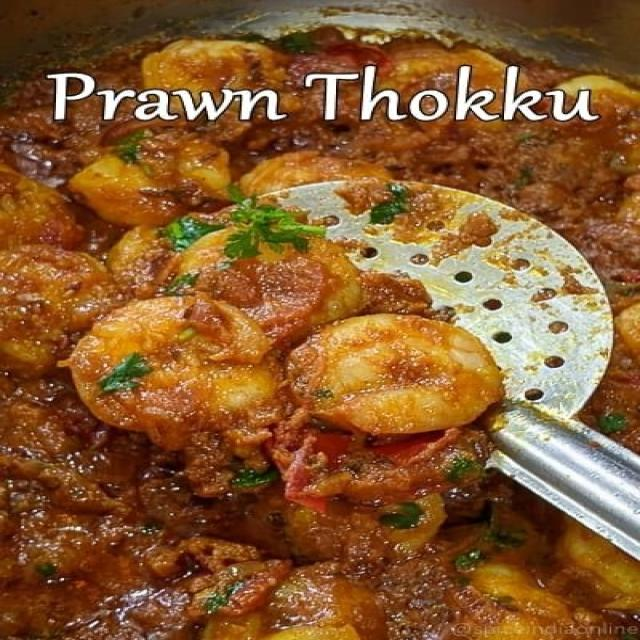prawn thokku: (0, 143, 496, 640)
